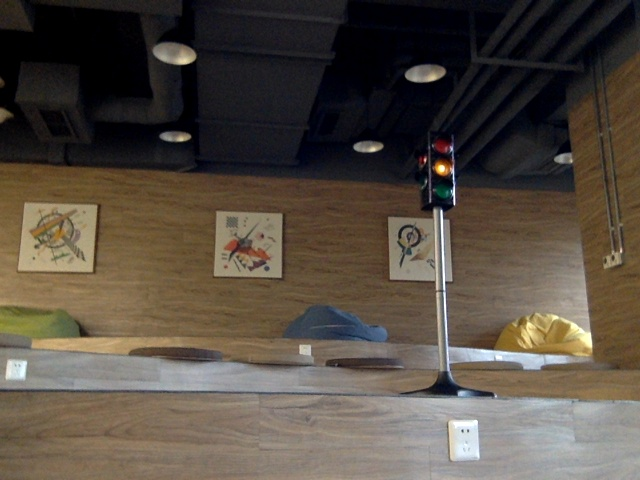yellow: (427, 135, 453, 199)
